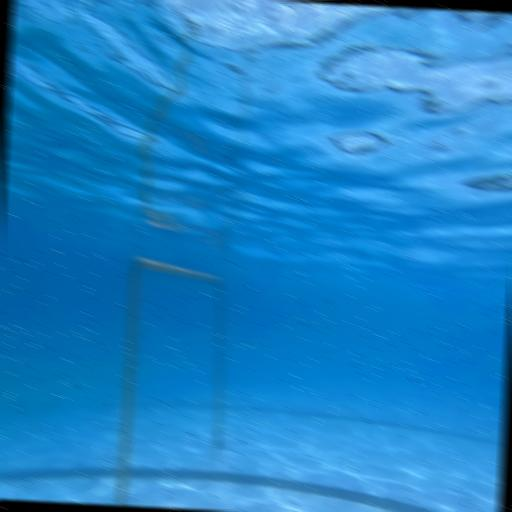gate: (112, 254, 250, 512)
